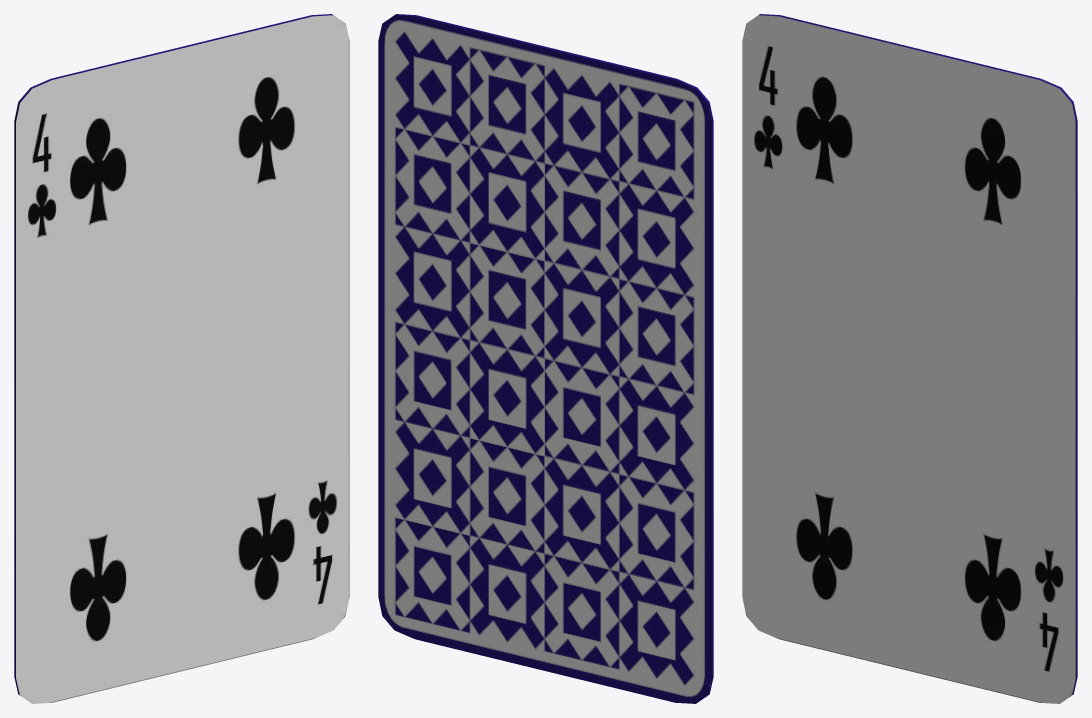
3 renders of one model, left to right at view 1: azimuth 30°, elevation 25°; view 2: azimuth 150°, elevation 25°; view 3: azimuth 330°, elevation 25°, orthographic.
Parts seen in each view (by area): view 1: Four of Clubs; view 2: Four of Clubs; view 3: Four of Clubs.
Boxes of the visible parts, x1=… form: Four of Clubs: x1=14, y1=14, x2=349, y2=703; Four of Clubs: x1=378, y1=14, x2=713, y2=703; Four of Clubs: x1=742, y1=14, x2=1077, y2=703.
Bounding box in the file's own units: 1.43 × 2.54 × 0.0125.
Materials: 3 (3 with a texture image).
